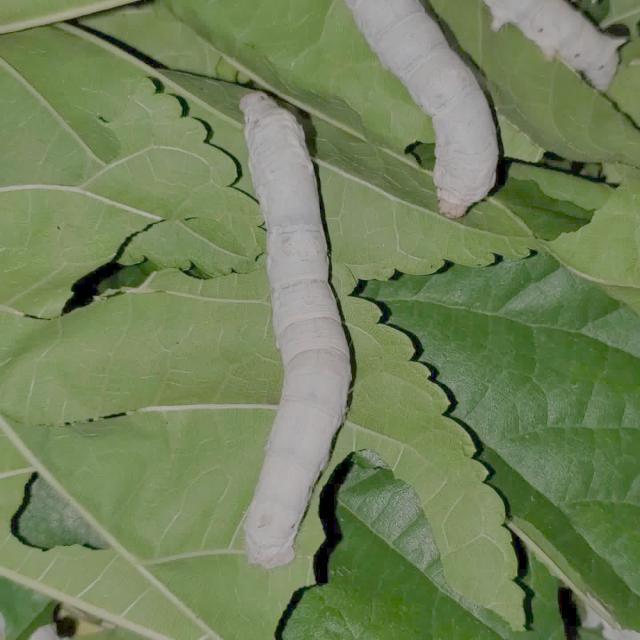Healthy: (209, 73, 360, 596)
